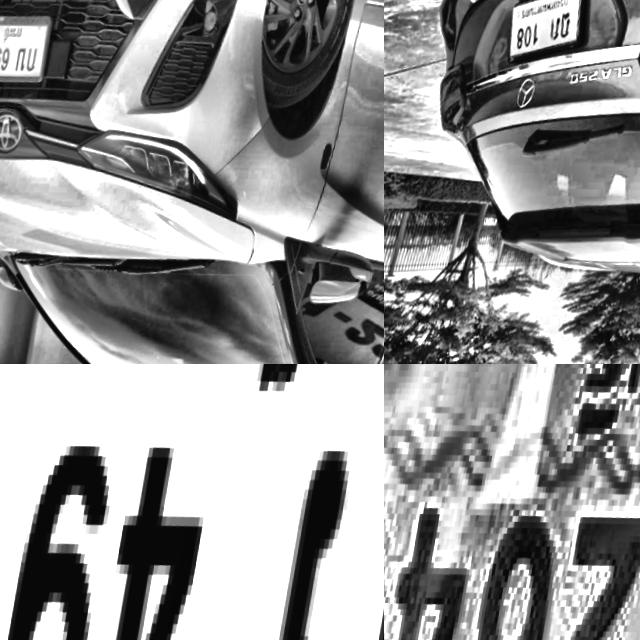license-plate: (0, 364, 384, 640), (384, 364, 640, 640), (501, 0, 595, 77), (0, 0, 58, 96)
